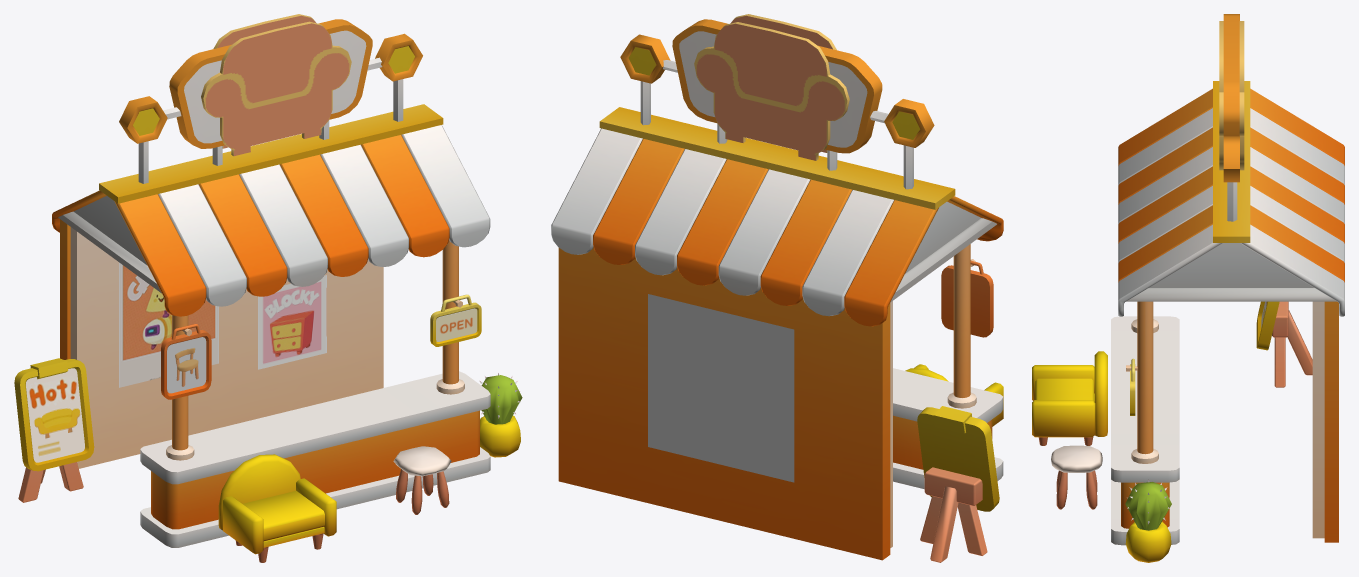
The model's file is FurnitureStore.fbx.
The picture shows the model from 3 angles, left to right: view 1: azimuth 30°, elevation 25°; view 2: azimuth 150°, elevation 25°; view 3: azimuth 270°, elevation 25°; orthographic projection. The views are drawn at different scales.
Visible parts, largest first — view 1: FurnitureStore, FurnitureStore_Lipai, FurnitureStore_Sofa, FurnitureStore_Plants, FurnitureStore_Chair; view 2: FurnitureStore, FurnitureStore_Icon, FurnitureStore_Lipai, FurnitureStore_Sofa; view 3: FurnitureStore, FurnitureStore_Sofa, FurnitureStore_Plants, FurnitureStore_Lipai, FurnitureStore_Chair.
Boxes of the visible parts, <box> form: FurnitureStore: <box>52,14,490,547</box>; FurnitureStore_Lipai: <box>14,358,94,502</box>; FurnitureStore_Sofa: <box>218,454,336,562</box>; FurnitureStore_Plants: <box>479,373,522,457</box>; FurnitureStore_Chair: <box>393,446,451,514</box>; FurnitureStore: <box>551,14,1003,560</box>; FurnitureStore_Icon: <box>648,294,794,482</box>; FurnitureStore_Lipai: <box>917,406,999,562</box>; FurnitureStore_Sofa: <box>905,364,1003,426</box>; FurnitureStore: <box>1111,14,1344,545</box>; FurnitureStore_Sofa: <box>1032,351,1107,445</box>; FurnitureStore_Plants: <box>1125,479,1171,562</box>; FurnitureStore_Lipai: <box>1256,301,1312,387</box>; FurnitureStore_Chair: <box>1051,445,1102,509</box>.
Bounding box in the file's own units: 450 × 433 × 284.
